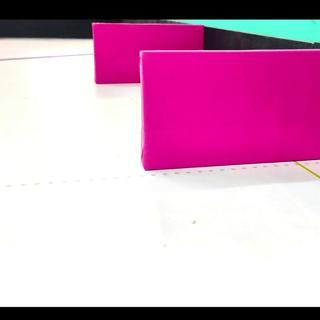xparking: (146, 52, 318, 177), (96, 23, 139, 86)
